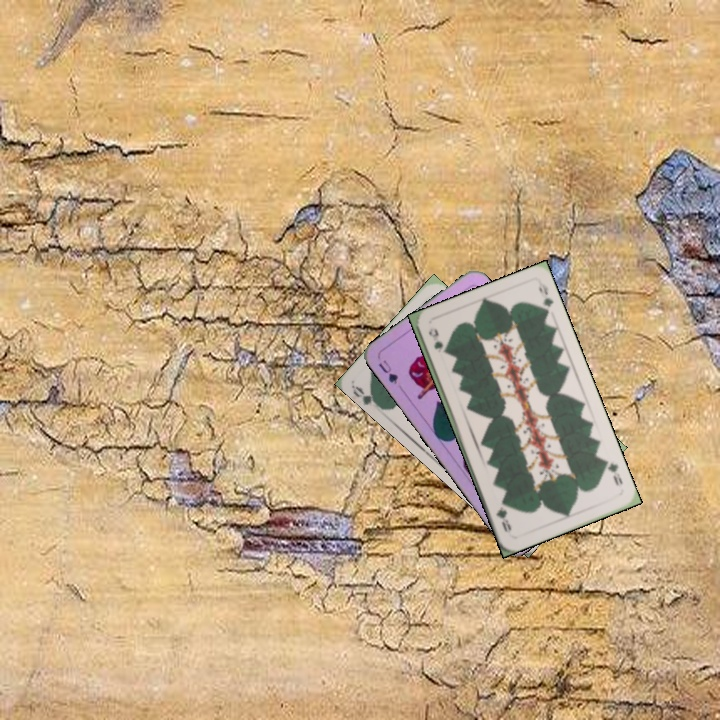G9: (599, 456, 625, 488), (424, 325, 448, 358)
GO: (349, 382, 386, 412)
GU: (374, 356, 401, 387)
